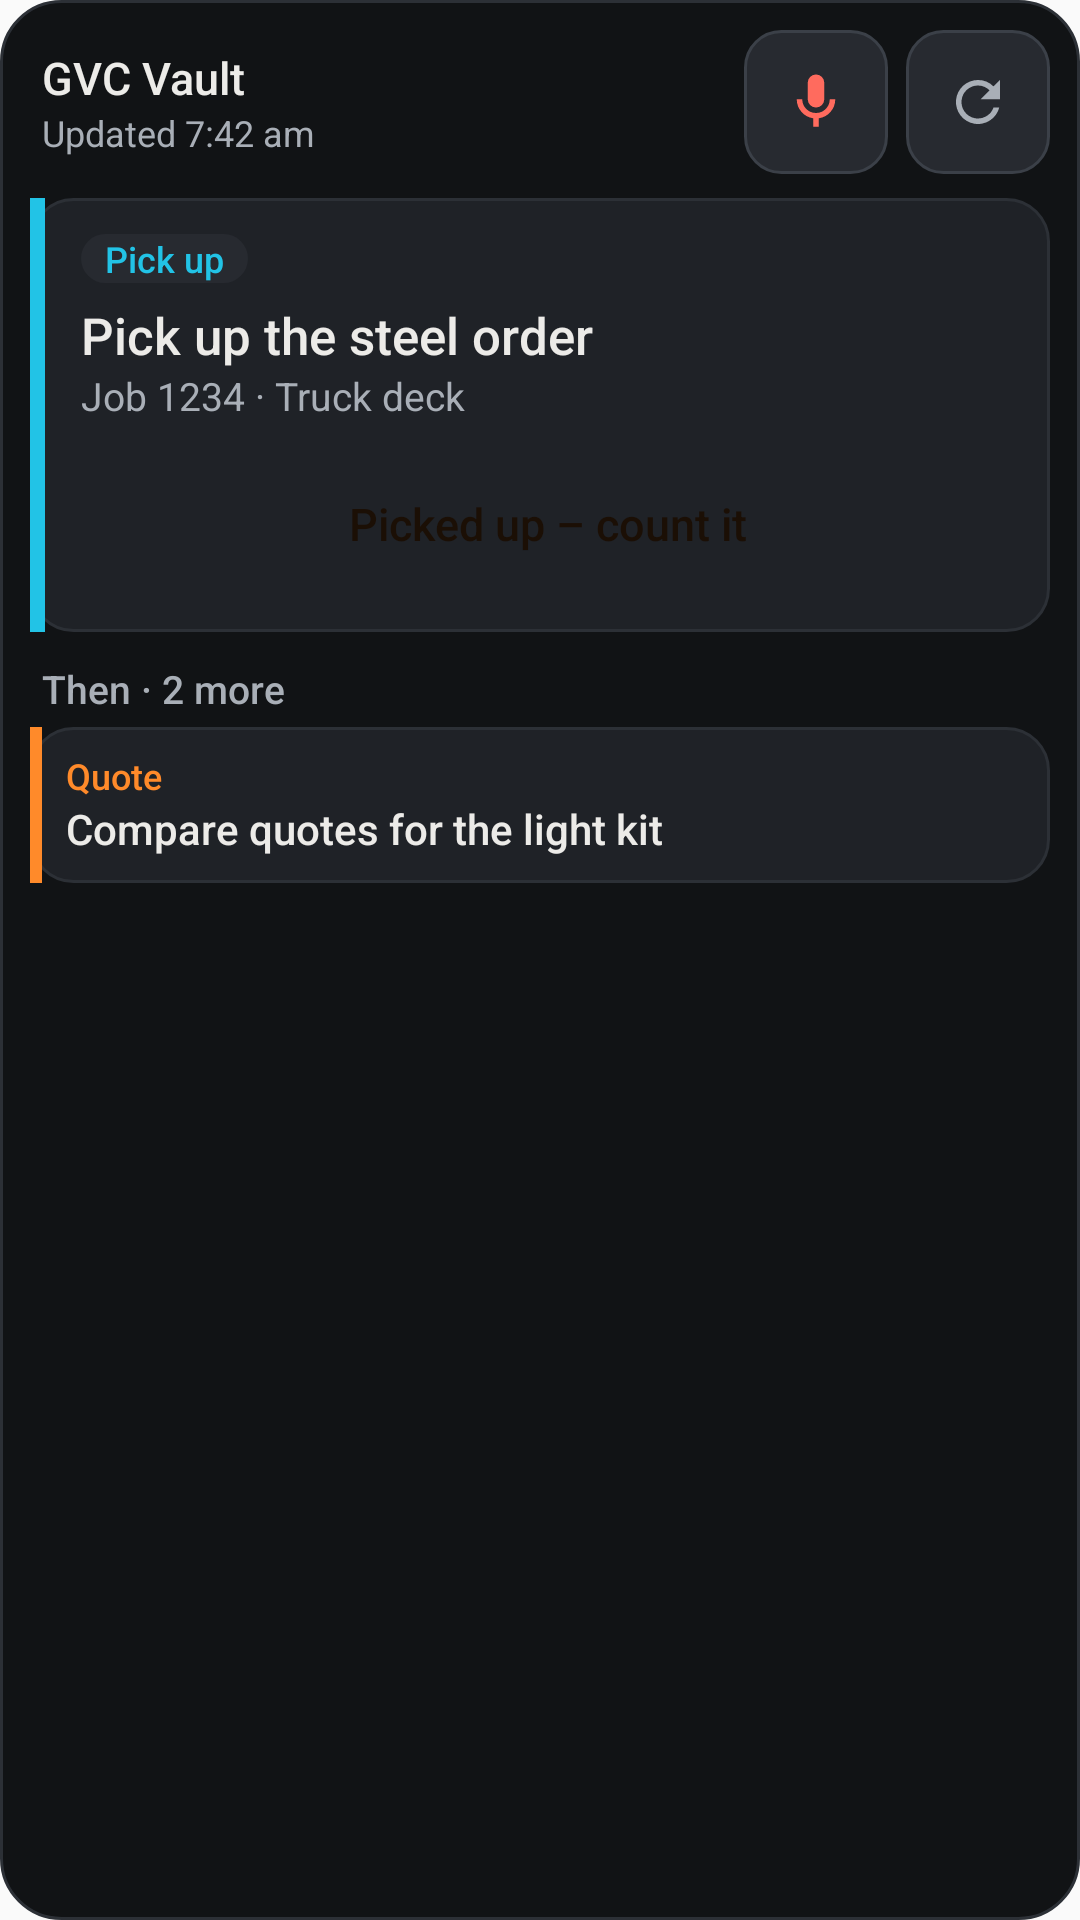

Named icons in this screenshot (1080*1920) and their centers, [x,y]:
mic: [816,100]
refresh: [978,102]
